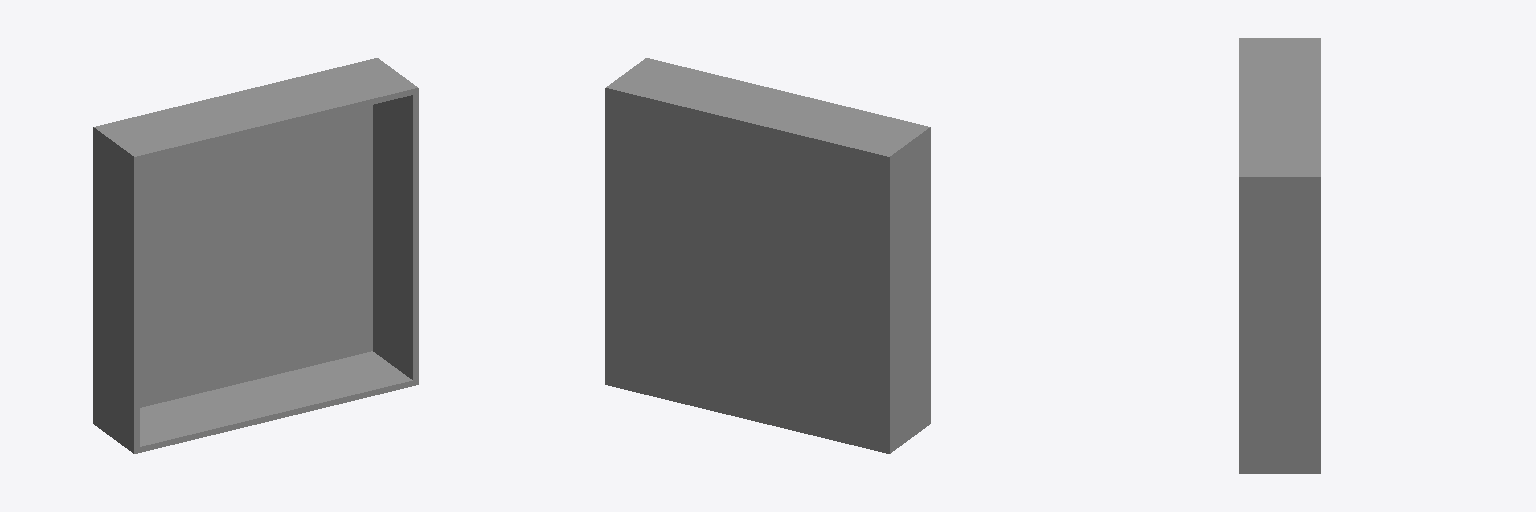
The model's file is arena_wall.obj.
3 views of the same model, side by side, from view 1: azimuth 30°, elevation 25°; view 2: azimuth 150°, elevation 25°; view 3: azimuth 270°, elevation 25° (orthographic).
Parts seen in each view (by area): view 1: Cube; view 2: Cube; view 3: Cube.
Part boxes in pixels (left/top/right/bottom): Cube: left=93, top=58, right=418, bottom=453; Cube: left=605, top=58, right=930, bottom=453; Cube: left=1239, top=38, right=1320, bottom=473.
Size of the model in its own units: 2 by 2 by 0.5.